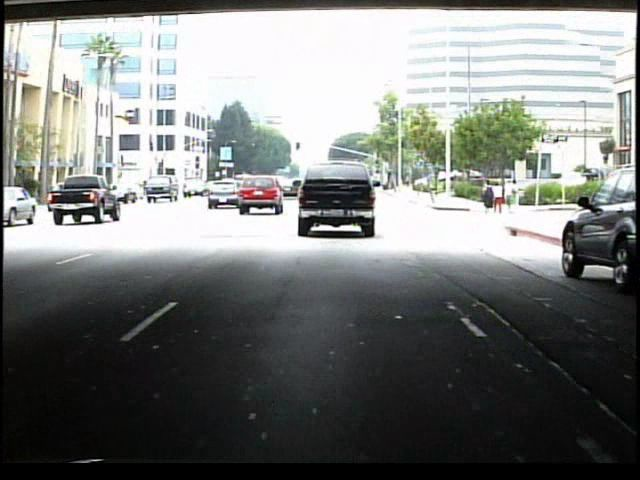person: (506, 177, 521, 216), (481, 179, 495, 216), (494, 180, 507, 215)
